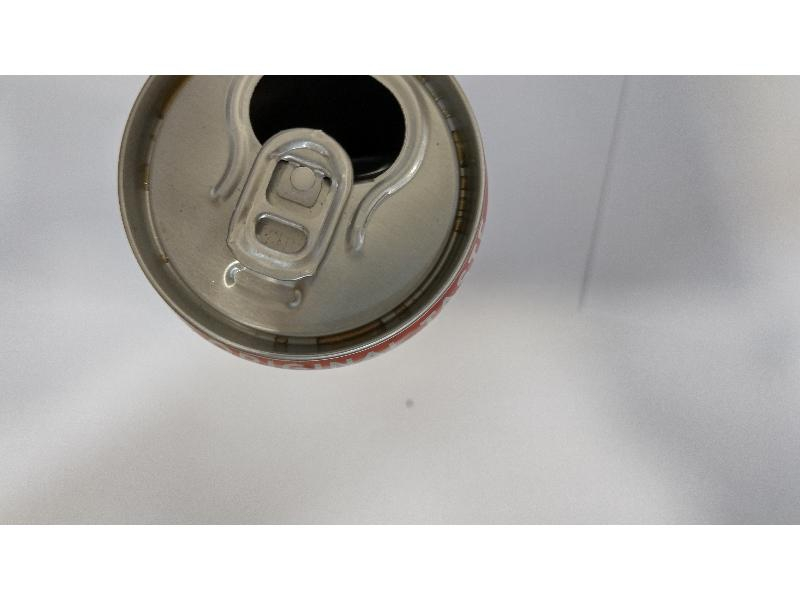can: (119, 76, 492, 373)
